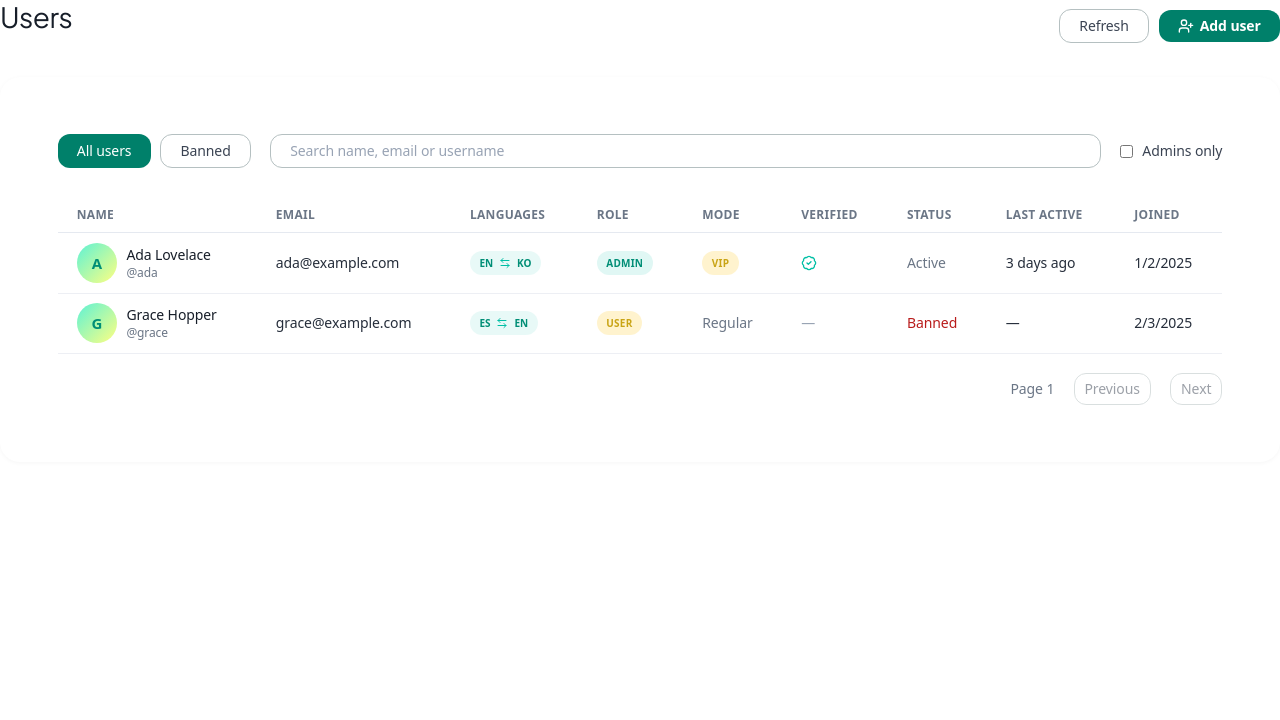
Test case: opens the detail drawer on a row click
Click the button with test id "data-row" that starts with "Ada Lovelace".
click(640, 263)  # box [58,233,1222,293]
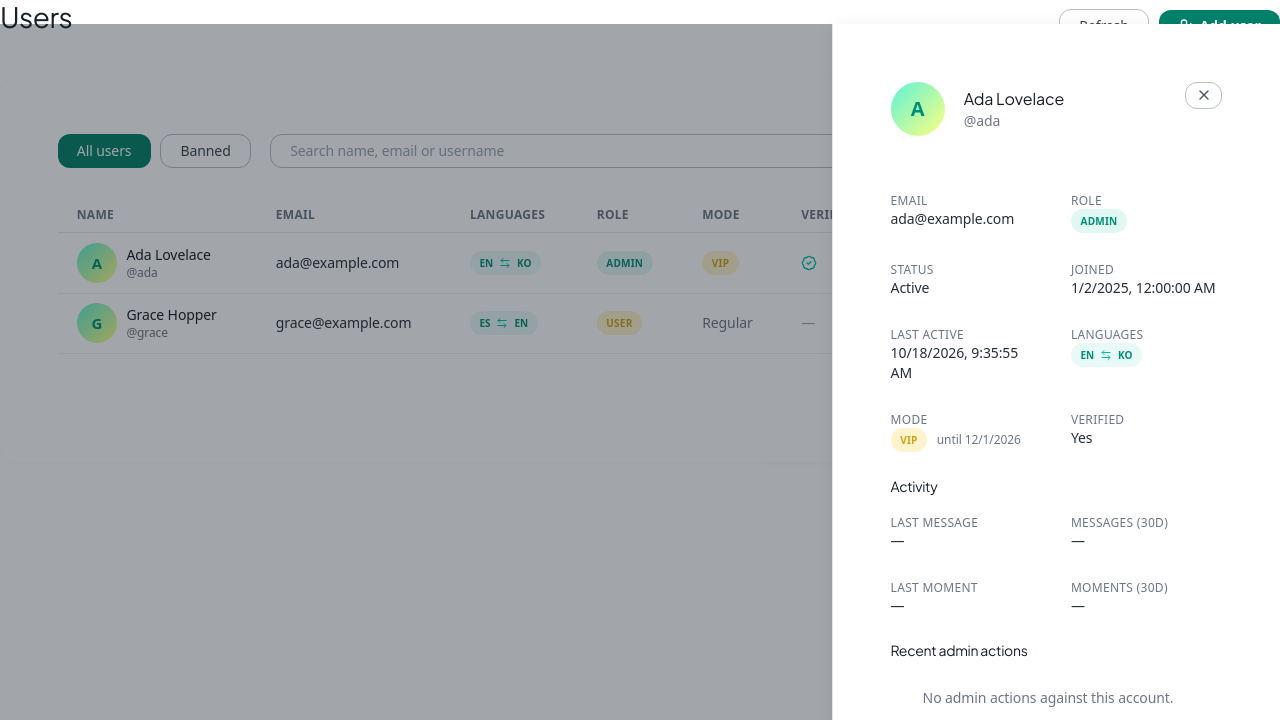
Check: the dialog is shown, box [832,24,1279,719]
